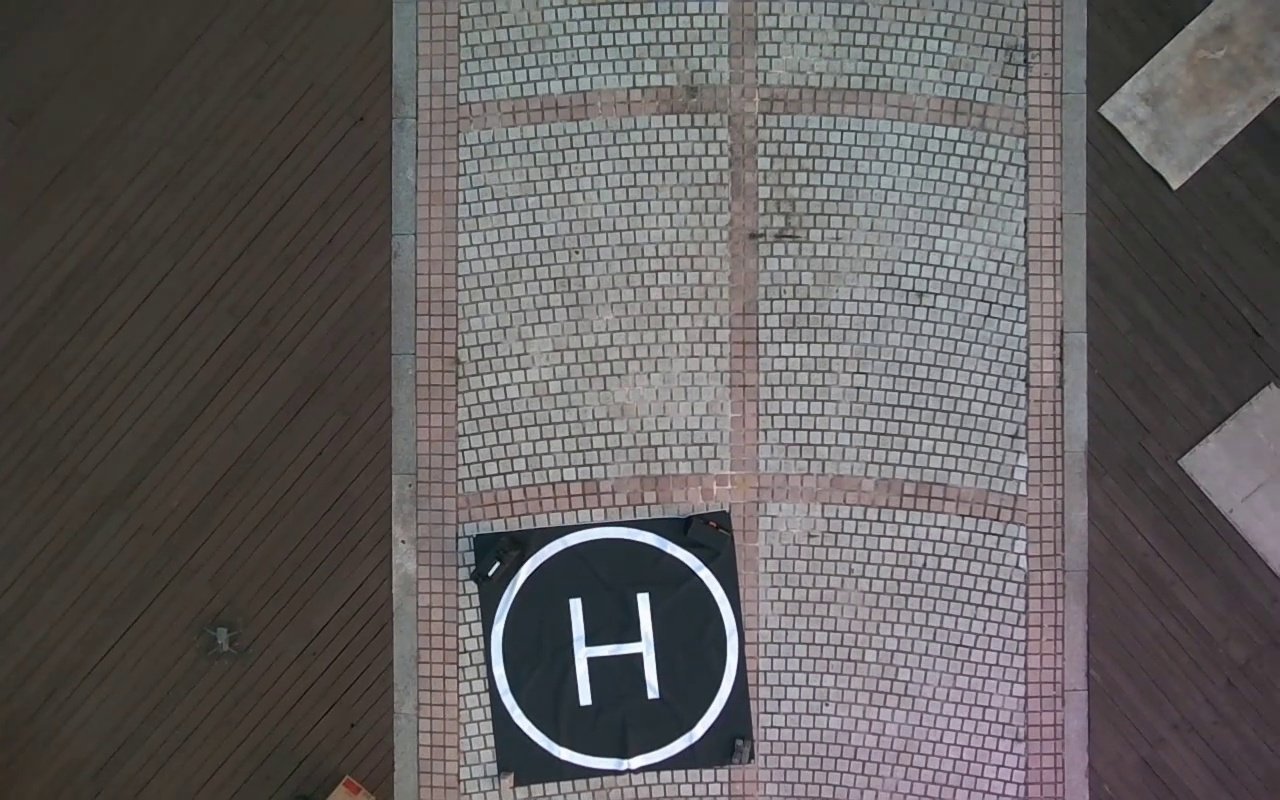H: (567, 593, 661, 707)
heliport: (492, 523, 740, 770)
